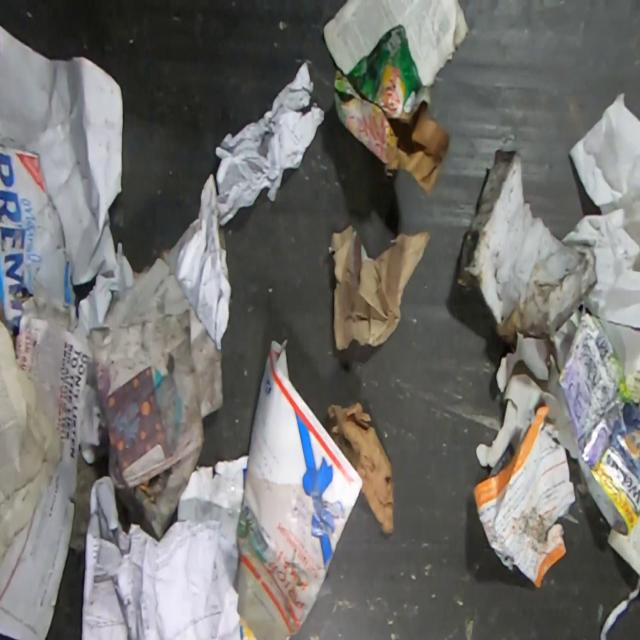cardboard: (233, 338, 364, 639), (332, 21, 453, 199), (0, 142, 79, 332), (326, 401, 396, 534)
soft_plastic: (557, 313, 640, 537)
